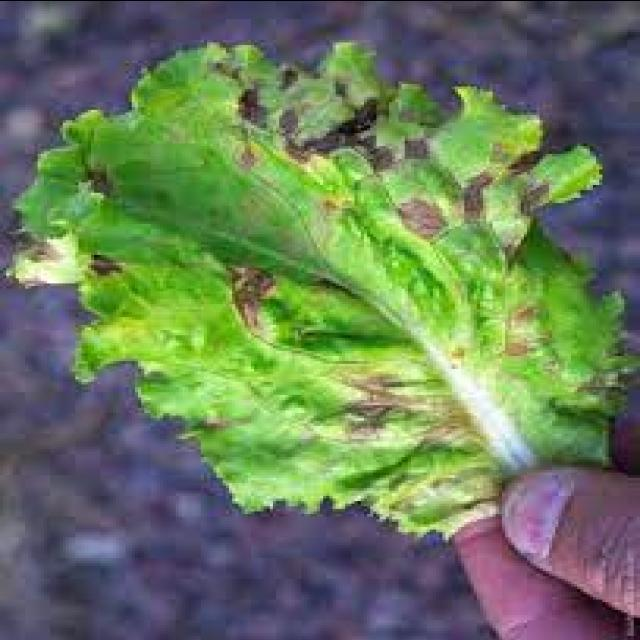Lettuce: (3, 36, 640, 536)
